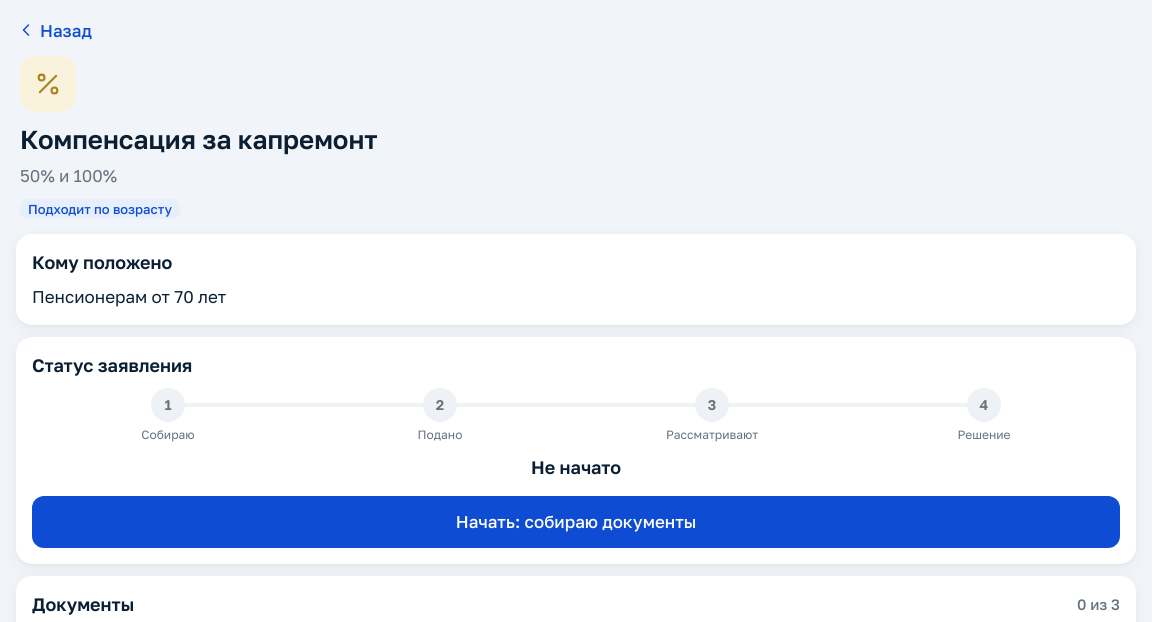
Test: BenefitPage › ошибка сохранения статуса откатывает изменение
The image size is (1152, 622).
Click the button "Начать: собираю документы".
click(576, 522)  # box [32,496,1120,548]
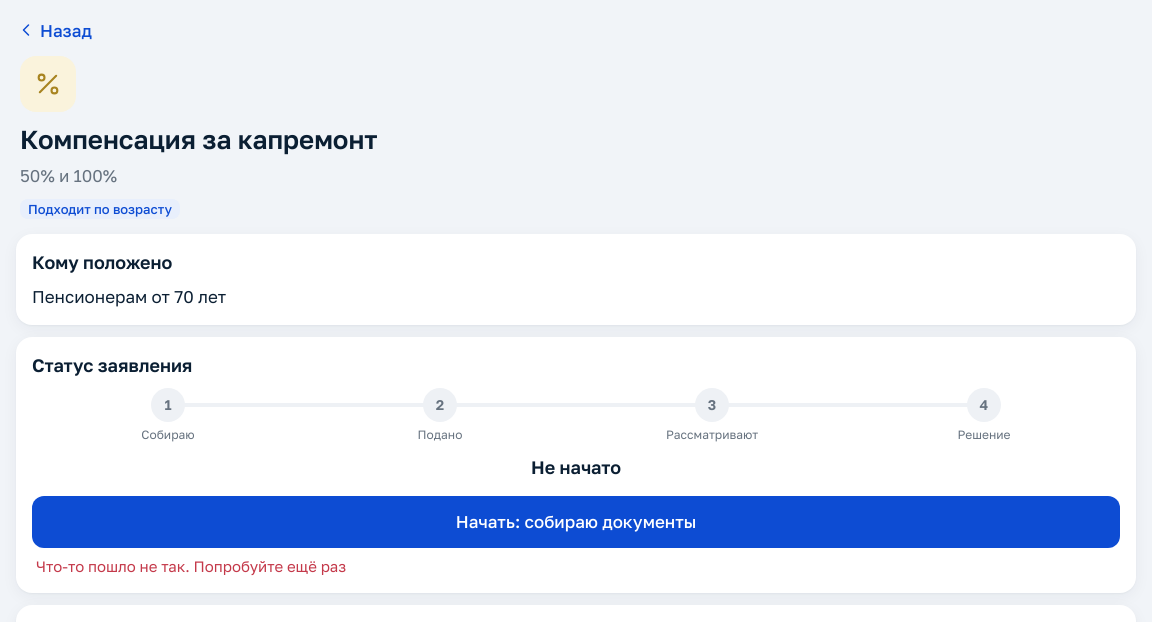
Expected: the text "Что-то пошло не так. Попробуйте ещё раз" is shown, [36,557,346,575]
